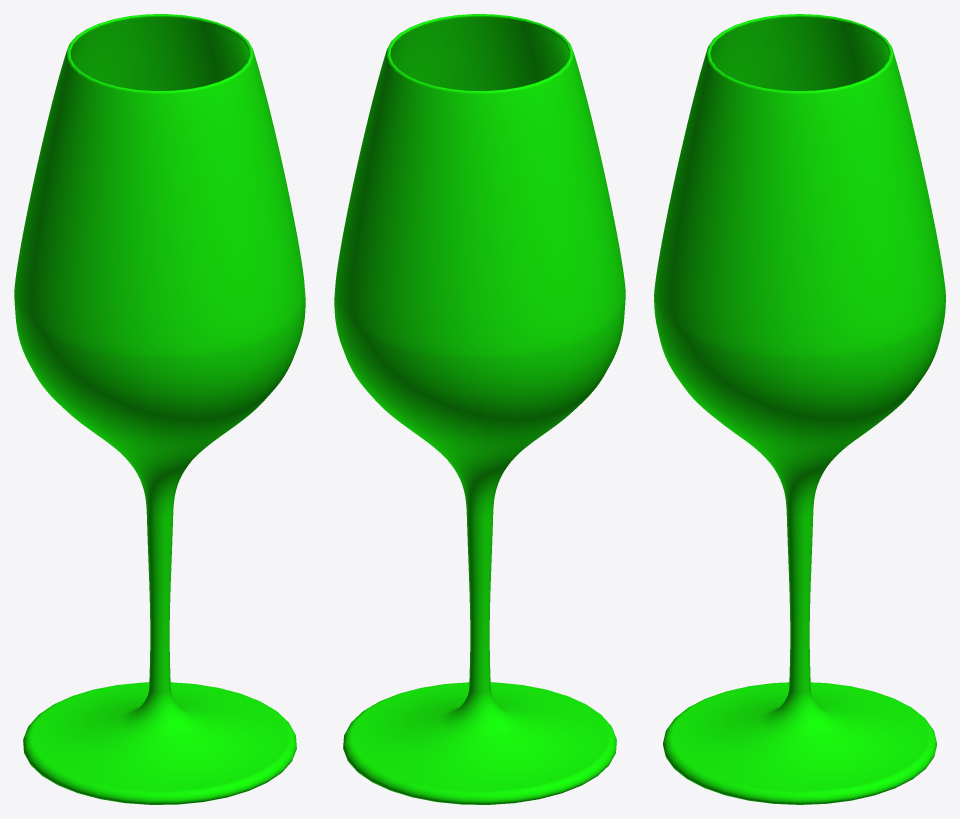
The model's file is SM_WineGlass.FBX.
3 views of the same model, side by side, from view 1: azimuth 30°, elevation 25°; view 2: azimuth 150°, elevation 25°; view 3: azimuth 270°, elevation 25° (orthographic).
Parts seen in each view (by area): view 1: WineGlass; view 2: WineGlass; view 3: WineGlass.
Boxes of the visible parts, bbox=[...] form: WineGlass: bbox=[14, 14, 305, 804]; WineGlass: bbox=[334, 14, 625, 804]; WineGlass: bbox=[654, 14, 945, 804].
Size of the model in its own units: 7.95 by 20.92 by 7.95.
